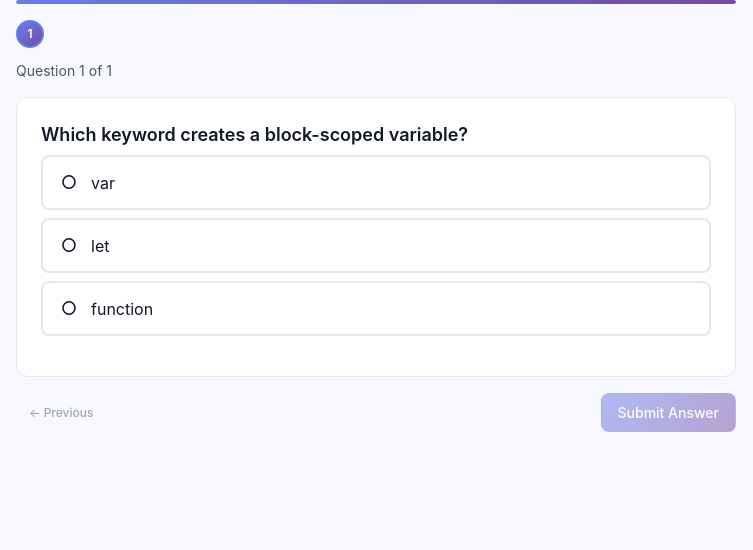
QuizPanel › score screen shows correct fraction for a wrong answer
This screenshot has width=753, height=550.
Click the button "○ var": click(69, 183) [41, 155, 711, 210]
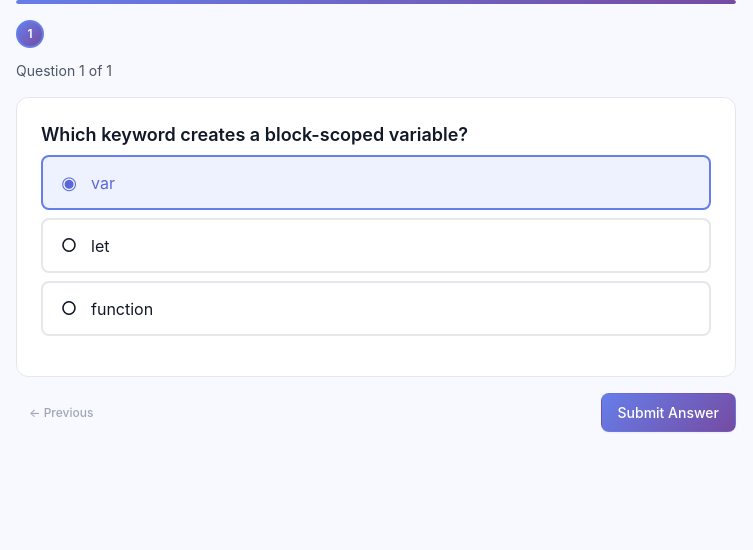
Click the button "Submit Answer": click(668, 413) [600, 393, 736, 432]
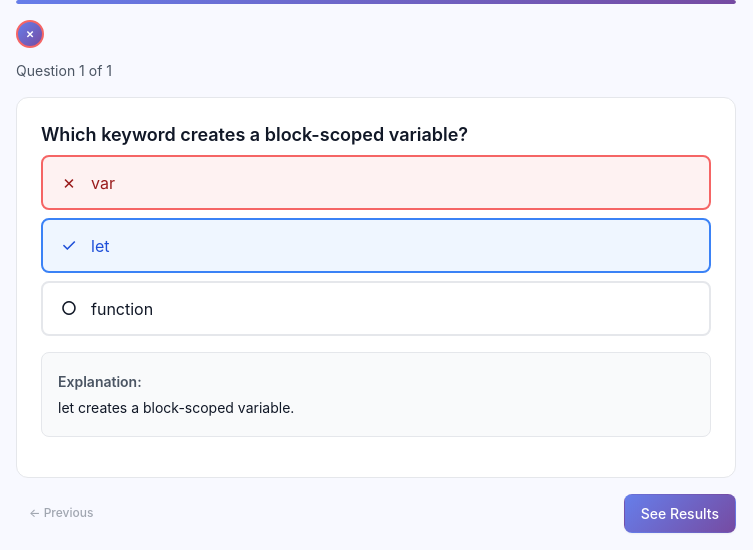
Click the button "See Results": click(680, 513) [624, 494, 736, 533]
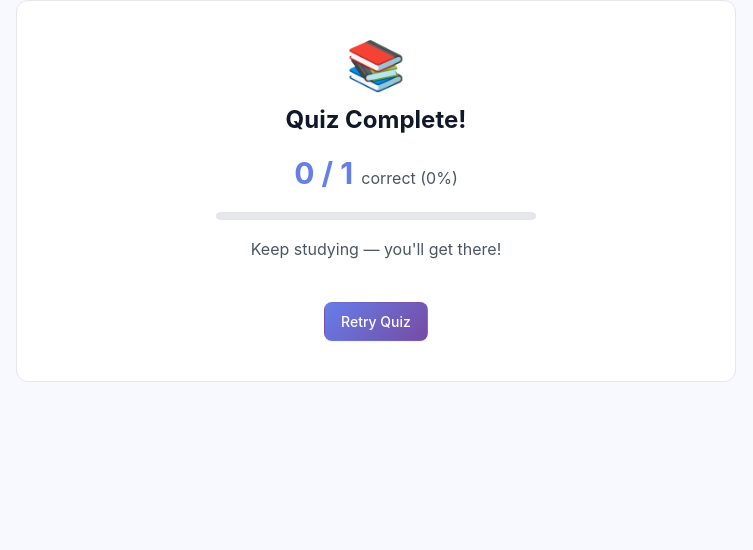
Now the text "0 / 1" is shown, box [294, 151, 353, 196]
